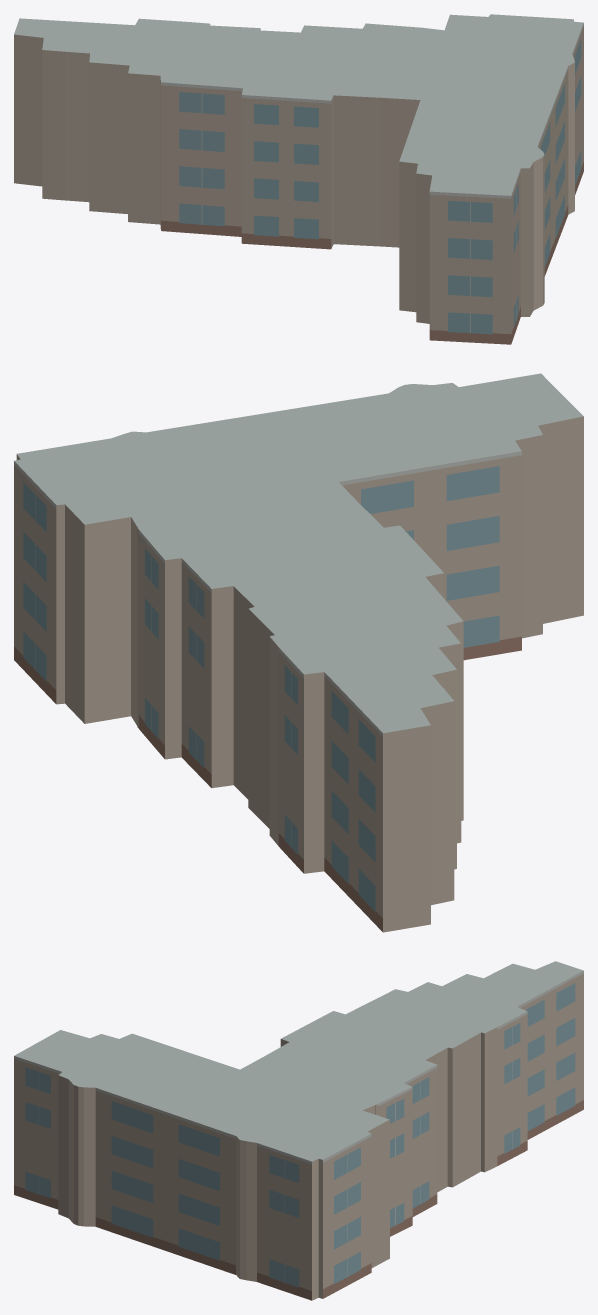
The model's file is survey-upis-32599912.glb.
3 renders of one model, top to bottom at view 1: azimuth 30°, elevation 25°; view 2: azimuth 150°, elevation 25°; view 3: azimuth 270°, elevation 25°, orthographic. The views are drawn at different scales.
Visible parts, largest first — view 1: survey-upis-32599912.tmp; view 2: survey-upis-32599912.tmp; view 3: survey-upis-32599912.tmp.
Boxes of the visible parts, box(x1,y1,x2,y2) form: survey-upis-32599912.tmp: box(14, 14, 583, 344); survey-upis-32599912.tmp: box(14, 373, 583, 932); survey-upis-32599912.tmp: box(14, 961, 583, 1300).
Size of the model in its own units: 37.74 by 12.2 by 45.32.
